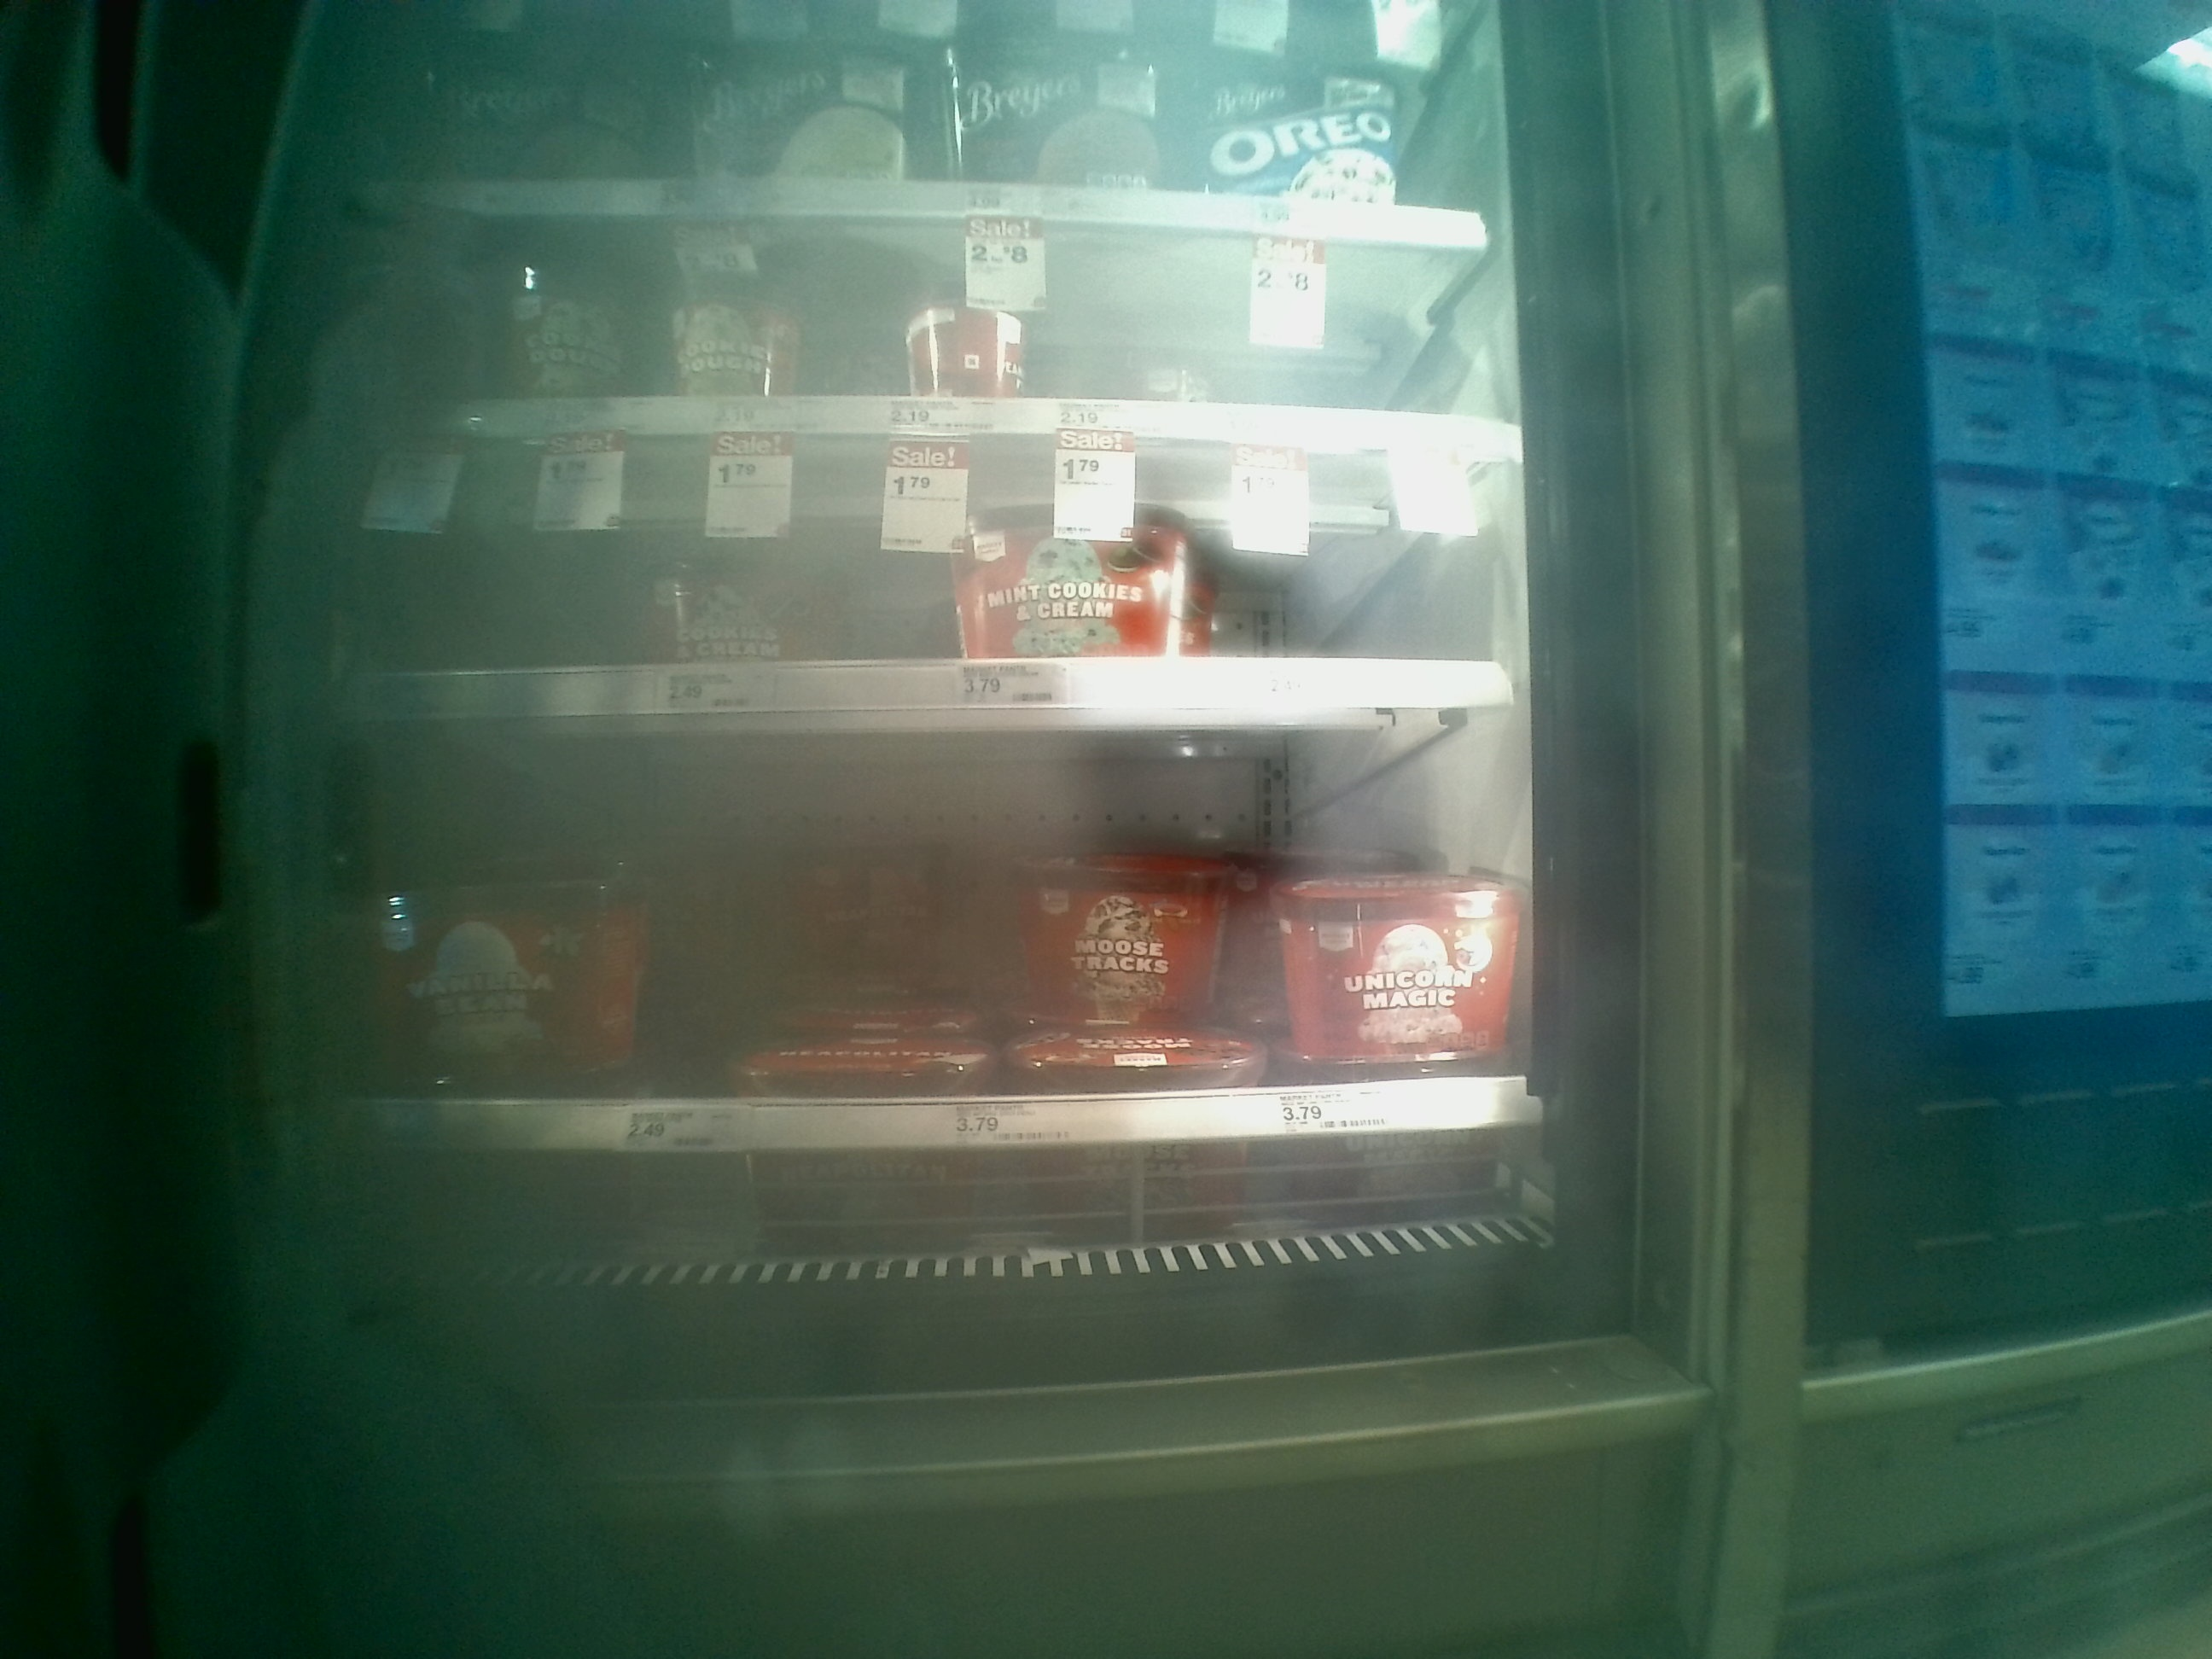shelf: (308, 732, 1541, 1202), (314, 432, 1538, 728), (315, 199, 1538, 432)
